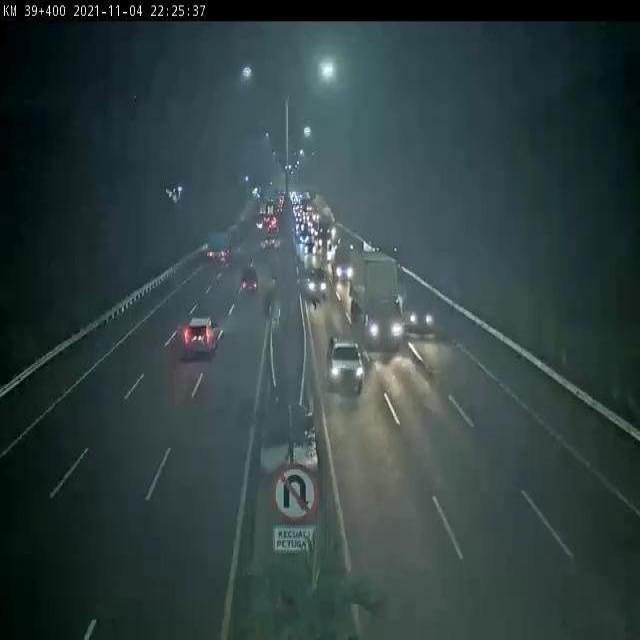Car: (326, 333, 364, 391), (182, 316, 220, 359), (241, 267, 257, 293), (303, 242, 316, 254), (263, 236, 276, 248)
Truck: (350, 249, 405, 349), (206, 228, 232, 266), (266, 202, 274, 218)
